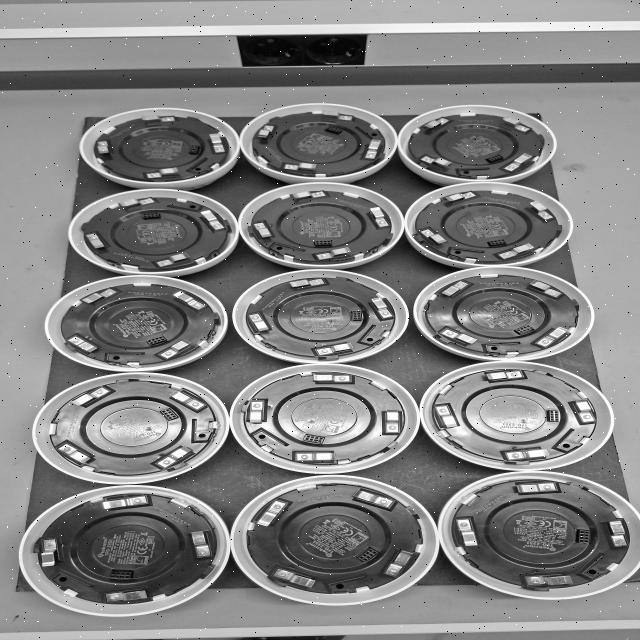yaysiz: (254, 497, 294, 530), (271, 567, 325, 591), (181, 528, 217, 560), (347, 488, 398, 510), (96, 492, 152, 512), (154, 444, 197, 470), (381, 546, 417, 577), (516, 571, 578, 589), (68, 386, 113, 409), (600, 516, 631, 549), (454, 515, 483, 550), (163, 387, 207, 410), (56, 442, 96, 467), (432, 402, 464, 431), (102, 588, 160, 604), (438, 327, 481, 348), (168, 290, 209, 312), (568, 396, 598, 426), (65, 334, 104, 357), (378, 404, 406, 436), (503, 480, 559, 496), (194, 207, 228, 233), (79, 286, 123, 306), (537, 324, 575, 347), (519, 198, 556, 221), (480, 368, 529, 385), (502, 446, 554, 462), (526, 279, 566, 299), (152, 251, 196, 269), (159, 338, 196, 359), (499, 242, 539, 261), (38, 538, 61, 571), (303, 372, 357, 386), (138, 166, 190, 180), (293, 450, 345, 464), (434, 190, 482, 205), (313, 341, 358, 357), (436, 280, 471, 300), (418, 225, 448, 248), (282, 277, 328, 292), (504, 150, 535, 172), (360, 136, 386, 162), (364, 205, 391, 230), (366, 296, 394, 320), (499, 116, 534, 135), (312, 108, 359, 122), (246, 398, 269, 426), (206, 132, 231, 157), (248, 312, 274, 336), (316, 246, 357, 261), (419, 154, 456, 170), (116, 197, 159, 210), (83, 232, 108, 254), (281, 159, 319, 173), (420, 117, 453, 133), (285, 190, 327, 202), (254, 123, 280, 142), (140, 114, 180, 125), (94, 139, 114, 157), (255, 221, 274, 239)
